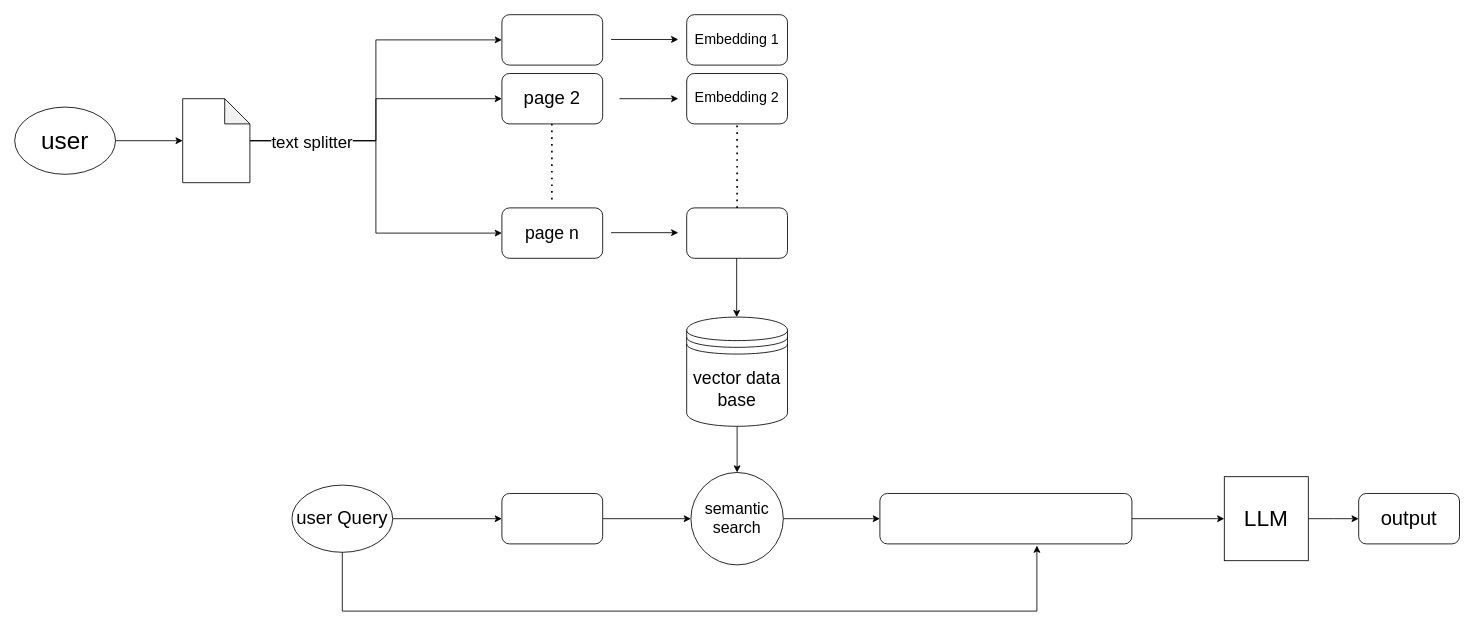
Image size: 1474x633. Some labels were removed from this diagram. The shapes that lost their labels are listed below. From the top down, each one's centre as x and y in pixels, then its label:
At (552,39): "page 1".
At (216,140): "pdf".
At (737,232): "Embedding n".
At (552,518): "Embedding".
At (1005,518): "context pages + user Query".
